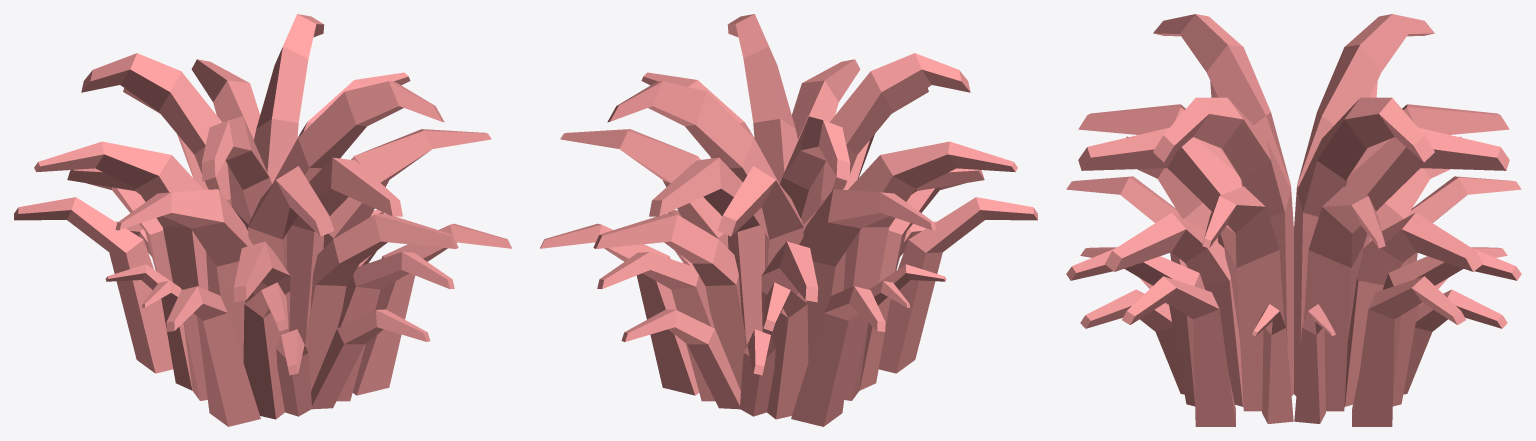
File: CHAHIN_ANEMONE.obj
3 views of the same model, side by side, from view 1: azimuth 30°, elevation 25°; view 2: azimuth 150°, elevation 25°; view 3: azimuth 270°, elevation 25° (orthographic). The views are drawn at different scales.
Visible parts, largest first — view 1: Cube.004_Cube.011; view 2: Cube.004_Cube.011; view 3: Cube.004_Cube.011.
Boxes of the visible parts, <box> form: Cube.004_Cube.011: <box>14,14,511,426</box>; Cube.004_Cube.011: <box>540,14,1037,426</box>; Cube.004_Cube.011: <box>1066,14,1521,426</box>.
Bounding box in the file's own units: 2.46 × 1.92 × 2.42.
1 material, 1 textured.
